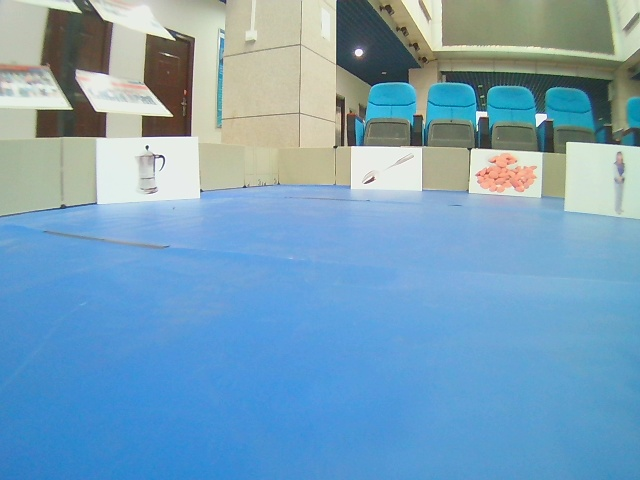dish: (96, 137, 201, 205), (349, 145, 424, 192)
food: (470, 148, 543, 198)
person: (563, 140, 640, 221)
